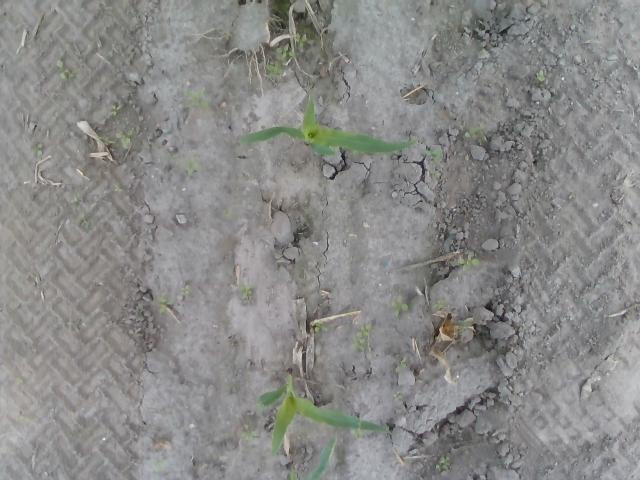Maize: (258, 371, 392, 458), (235, 91, 420, 154), (285, 434, 339, 480)
Weeds: (183, 87, 210, 107), (352, 324, 368, 354), (457, 255, 481, 272), (56, 59, 75, 80), (392, 294, 408, 318), (116, 128, 134, 148), (434, 456, 452, 475), (266, 63, 283, 80), (155, 292, 168, 314), (294, 31, 308, 51), (276, 42, 291, 58), (239, 284, 255, 298), (238, 430, 256, 442), (186, 160, 200, 175), (312, 321, 326, 334), (112, 182, 126, 194), (32, 142, 42, 158), (428, 150, 441, 162), (464, 128, 478, 138), (392, 391, 404, 402), (398, 355, 408, 368), (179, 285, 190, 296), (432, 300, 444, 310), (352, 428, 364, 438), (536, 70, 546, 82), (222, 208, 232, 218), (110, 104, 118, 116), (223, 31, 231, 41)
